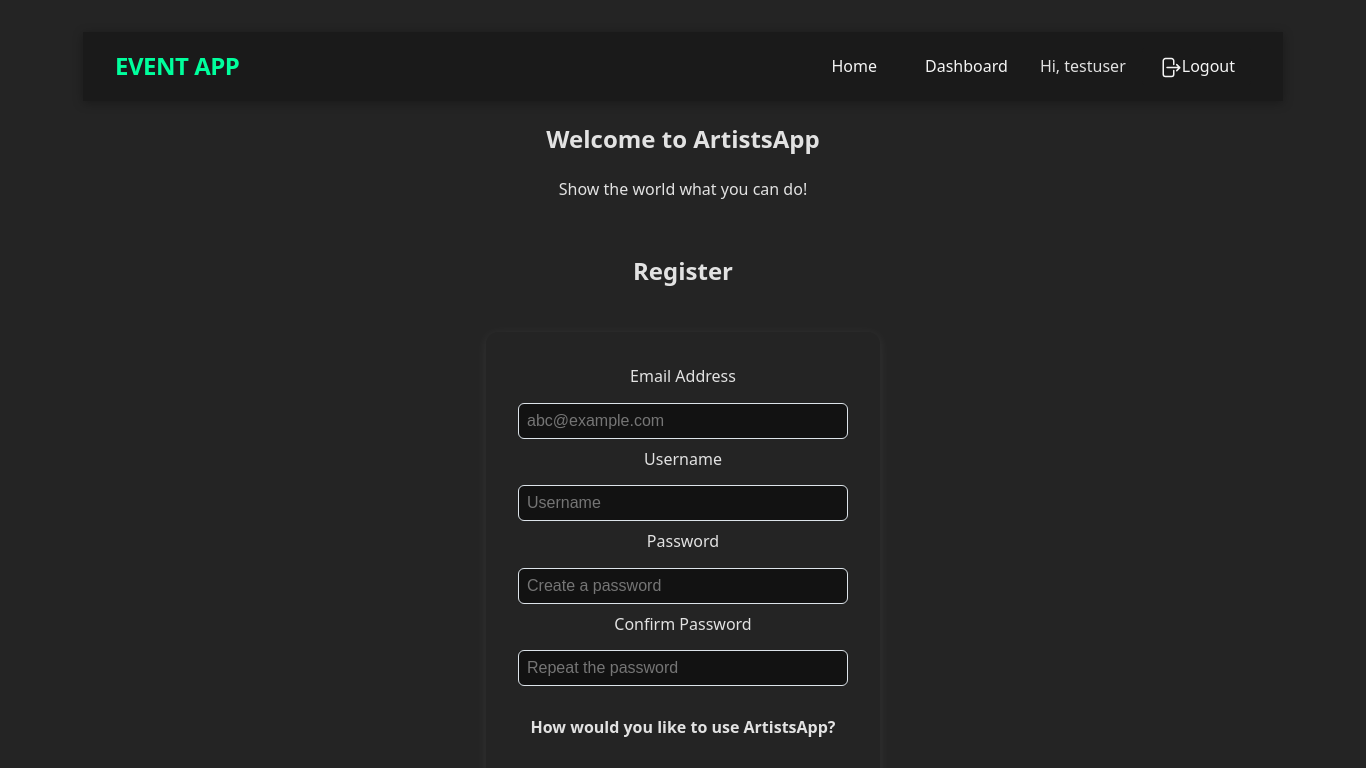
Register › write on input fields and missmatch passwords
# Type on fields
In the field with placeholder "abc@example.com": (683, 421) [518, 403, 848, 439], type "testuser@gmail.com"
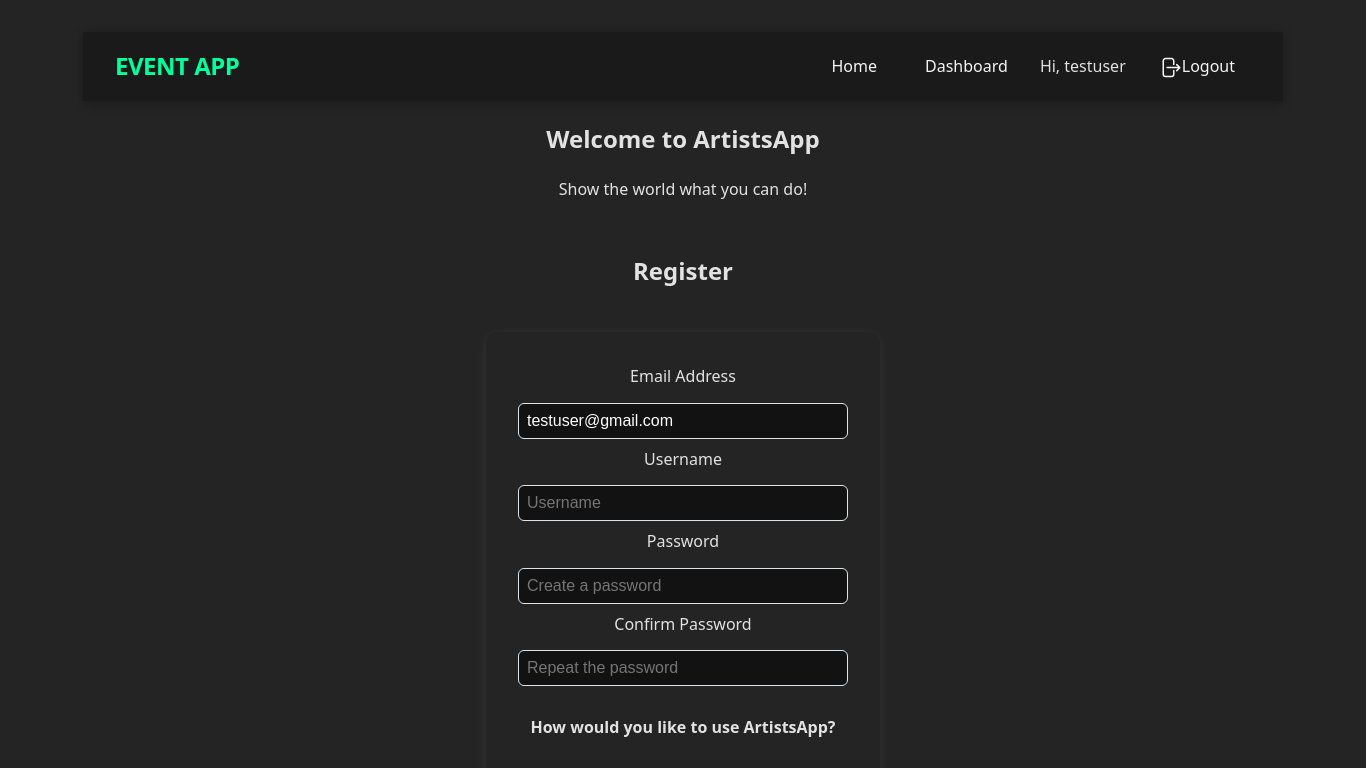
In the field with placeholder "Username": (683, 503) [518, 485, 848, 521], type "testuser"
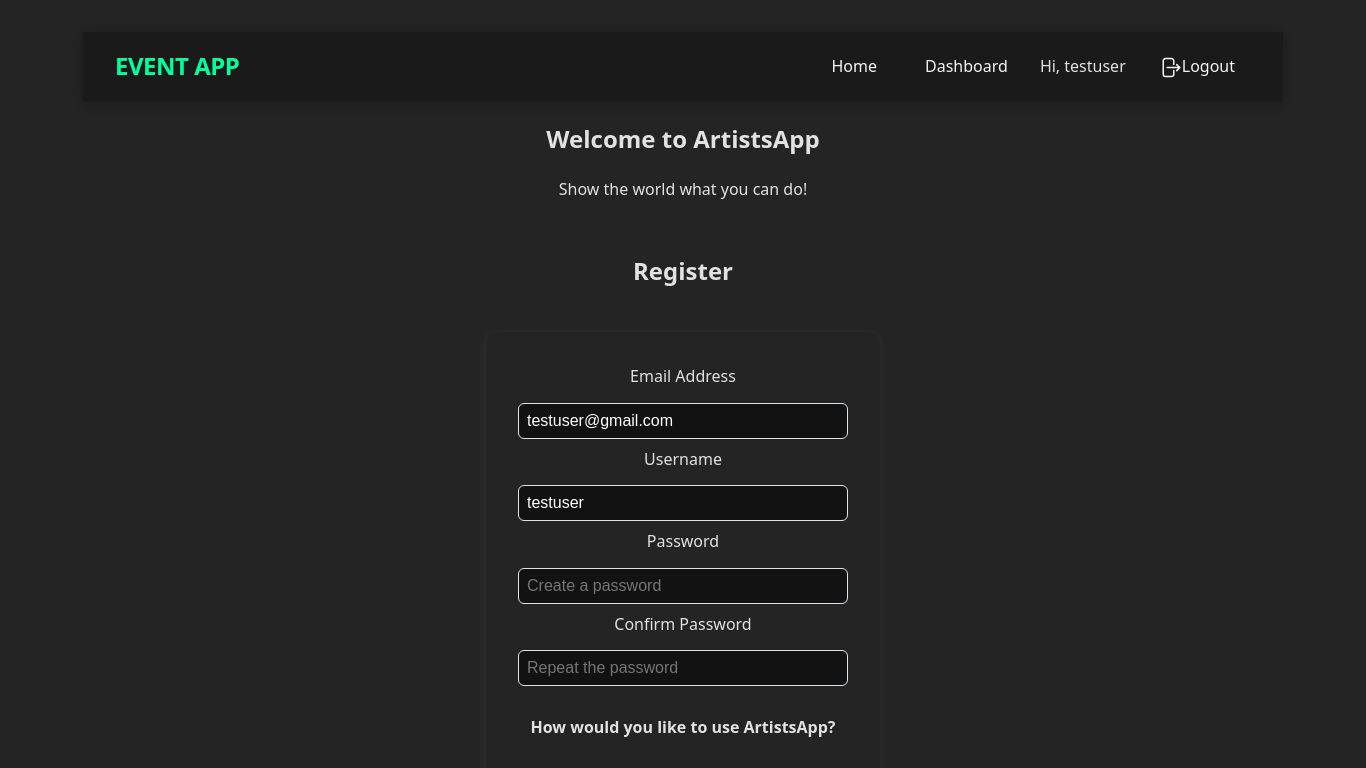
In the password field with placeholder "Create a password": (683, 586) [518, 568, 848, 604], type "1234"
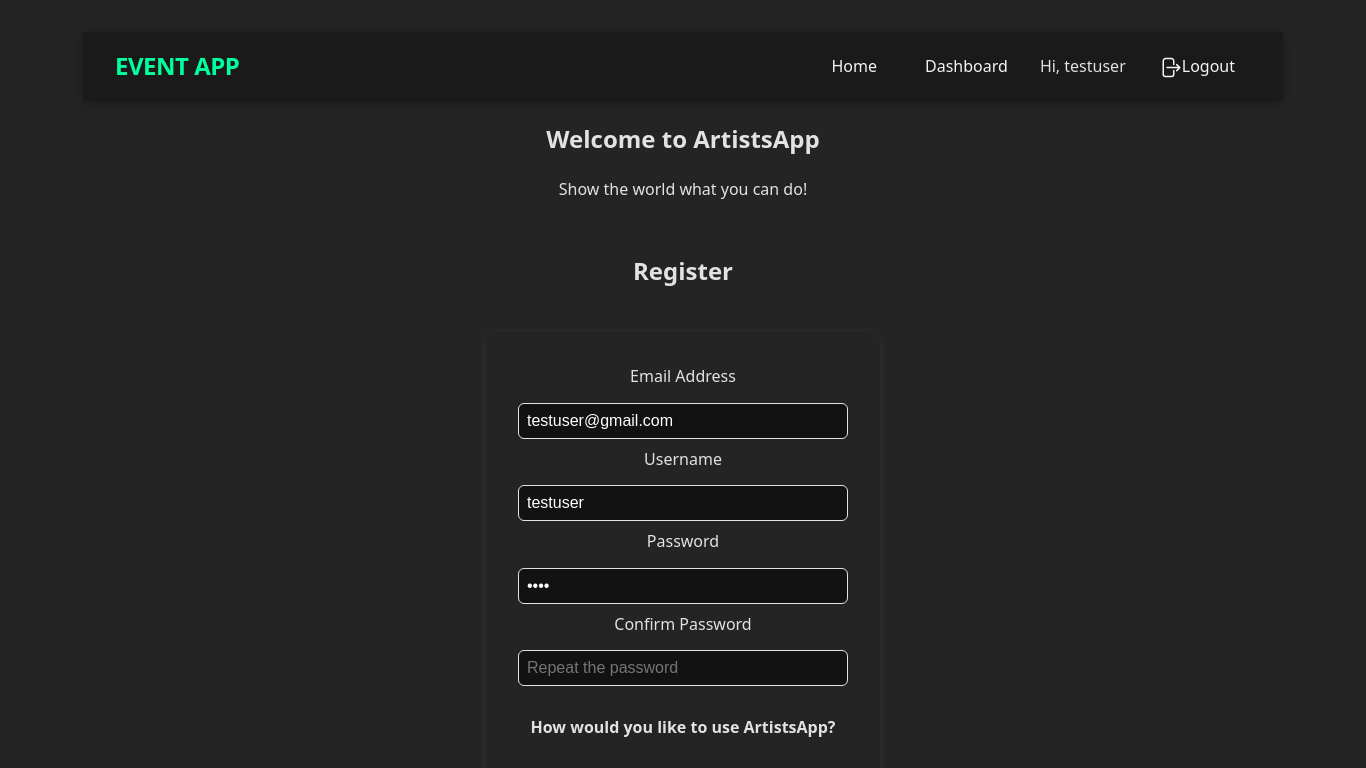
In the password field with placeholder "Repeat the password": (683, 668) [518, 650, 848, 686], type "134"
(page scrolled)
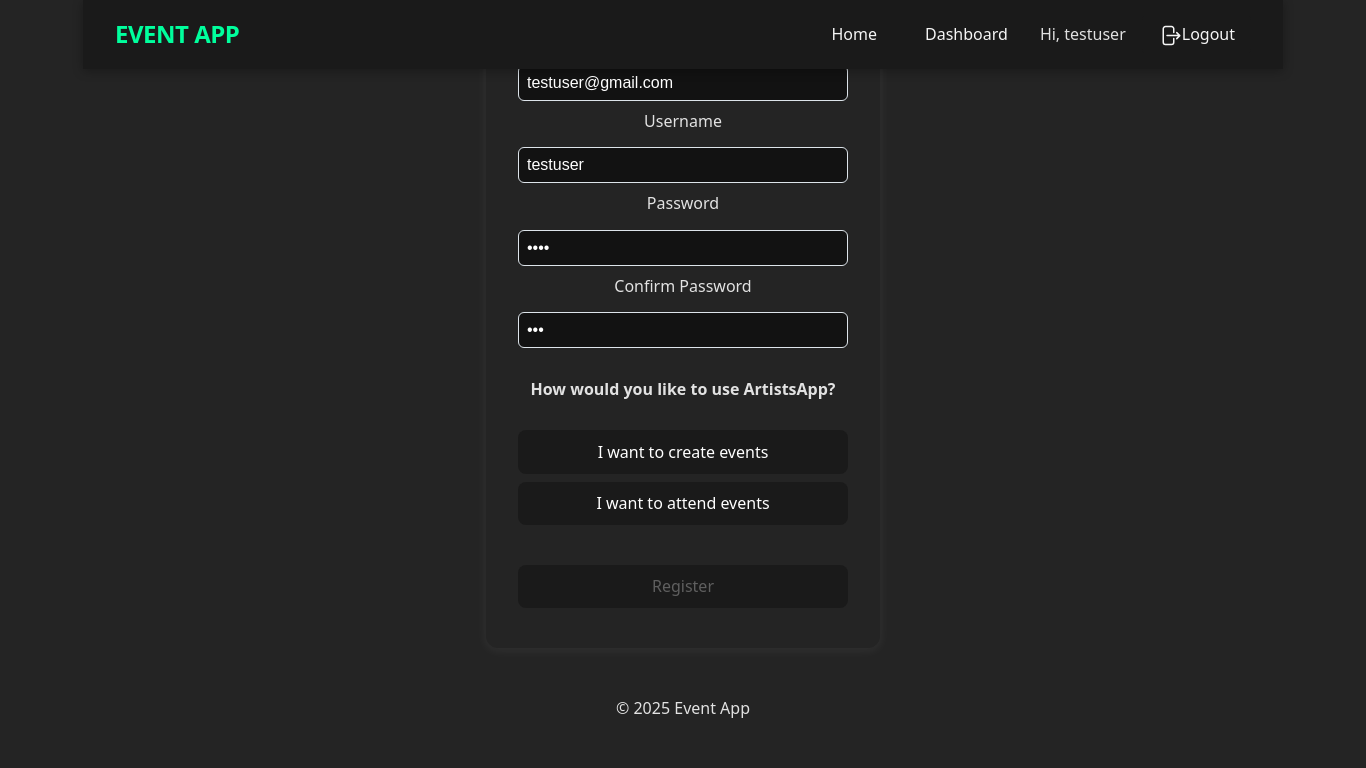
Click the button with aria-label "attendee": (683, 503) [518, 482, 848, 525]
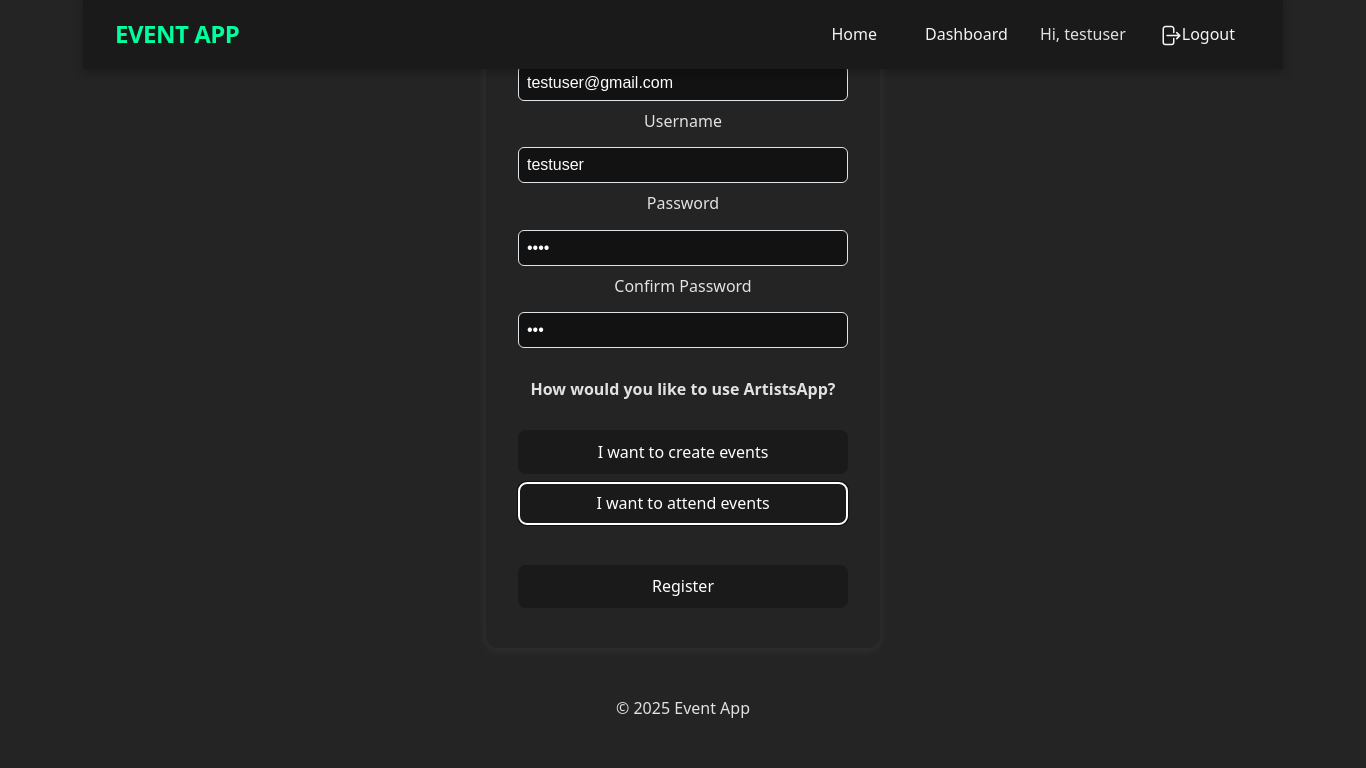
# Click on register button
Click the button "Register": (683, 586) [518, 565, 848, 608]
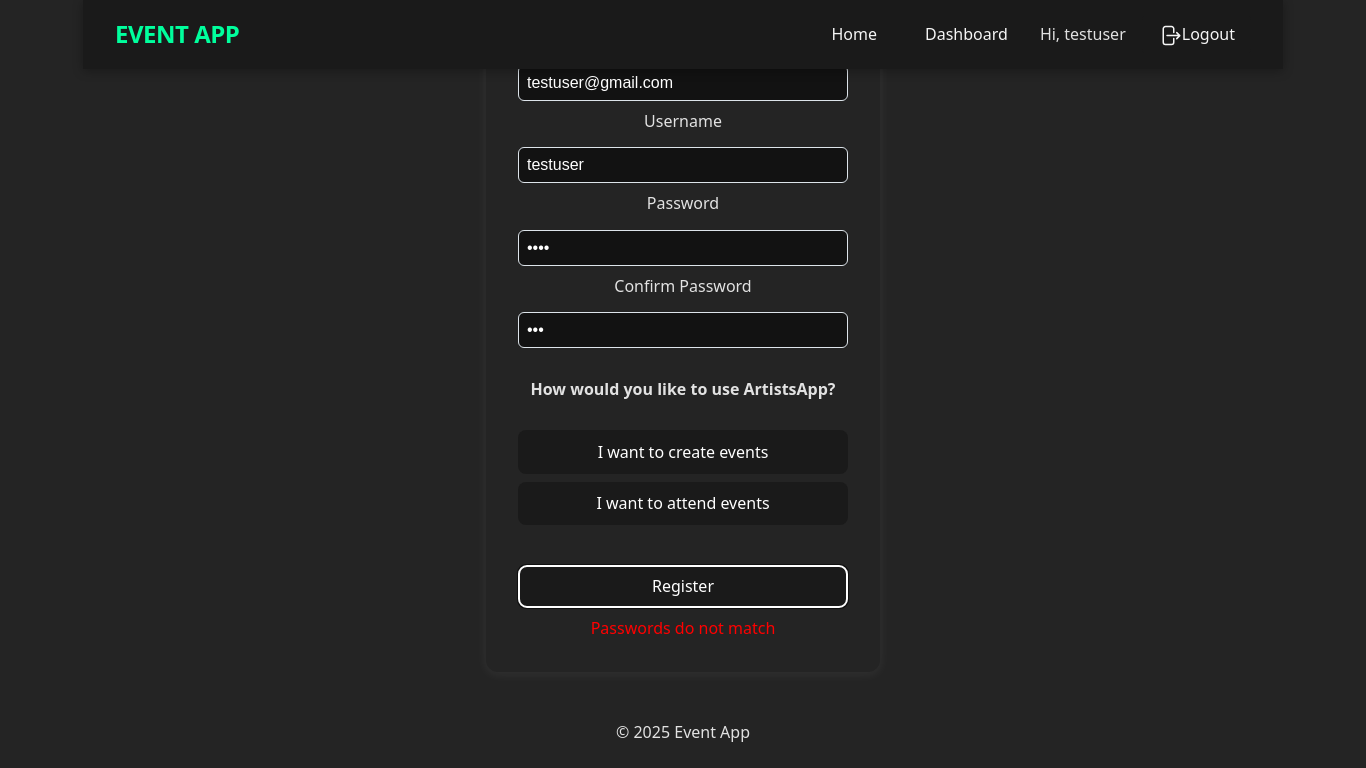
Result: the text with test id "error-message" reads "Passwords do not match" at [591, 617, 775, 639]
